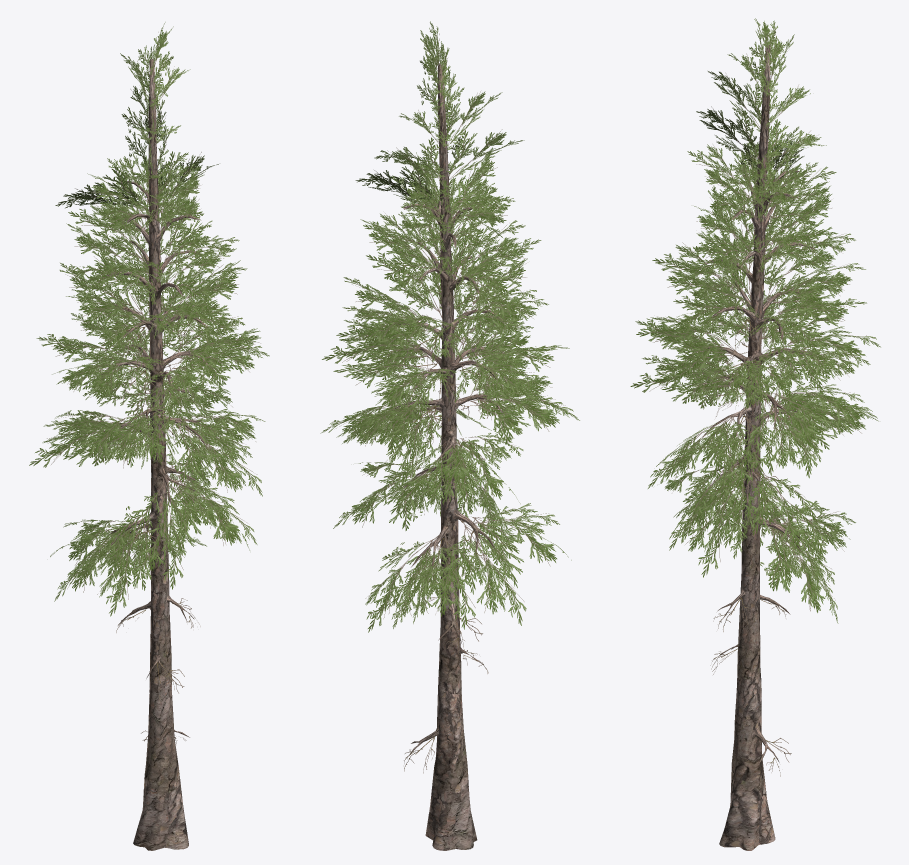
Rendered from spruce.glb.
3 renders of one model, left to right at view 1: azimuth 30°, elevation 25°; view 2: azimuth 150°, elevation 25°; view 3: azimuth 270°, elevation 25°, orthographic. The views are drawn at different scales.
Parts seen in each view (by area): view 1: spruce branch_1, bark08_0, branch06_2; view 2: spruce branch_1, bark08_0, branch06_2; view 3: spruce branch_1, bark08_0, branch06_2.
Boxes of the visible parts, bbox=[...] form: spruce branch_1: bbox=[29, 22, 269, 616]; bark08_0: bbox=[101, 59, 212, 850]; branch06_2: bbox=[95, 326, 214, 743]; spruce branch_1: bbox=[320, 21, 579, 632]; bark08_0: bbox=[392, 64, 504, 850]; branch06_2: bbox=[389, 315, 516, 773]; spruce branch_1: bbox=[630, 18, 880, 623]; bark08_0: bbox=[702, 45, 815, 850]; branch06_2: bbox=[703, 303, 809, 776].
Bounding box in the file's own units: 4.29 × 14 × 4.2.
Materials: 3 (3 with a texture image).
